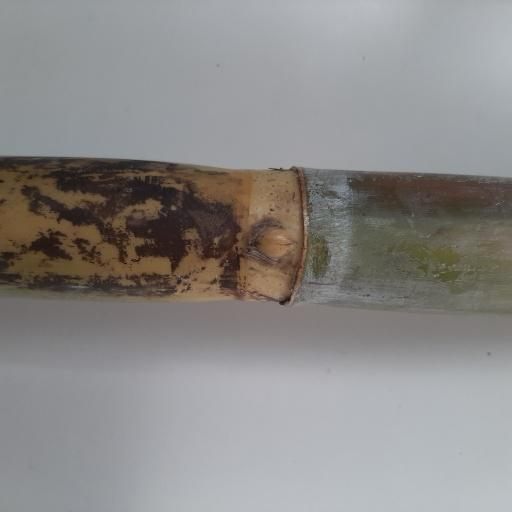Bud: (249, 225, 301, 261)
